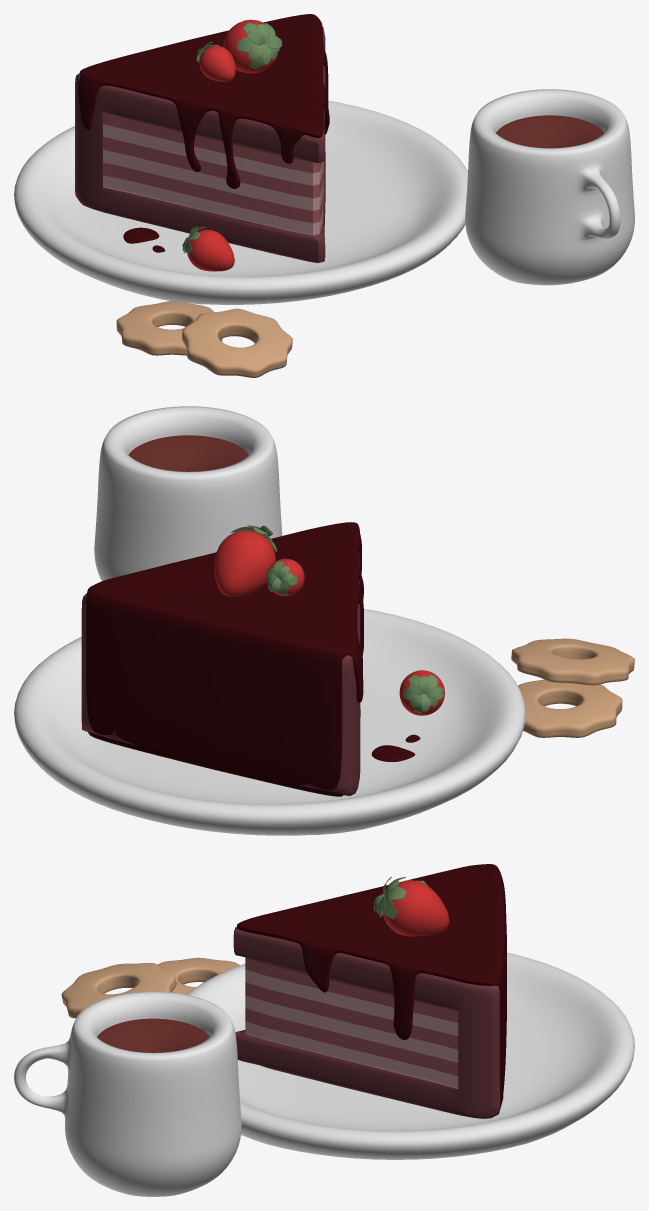
The model's file is berry-dream-kitchen_cake.glb.
3 renders of one model, top to bottom at view 1: azimuth 30°, elevation 25°; view 2: azimuth 150°, elevation 25°; view 3: azimuth 270°, elevation 25°, orthographic. The views are drawn at different scales.
Parts seen in each view (by area): view 1: MSH_Pastel_MTL_Plato_0, MSH_Pastel_MTL_ChocolateMelt_0, MSH_Pastel_MTL_PanBase_0, MSH_Pastel_MTL_Galleta_0, MSH_Pastel_MTL_Pastel_RellenoClaro_0, MSH_Pastel_MTL_Pastel_RellenoOscuro_0, MSH_Pastel_MTL_TazaChocolate_0, MSH_Pastel_MTL_HojasFresa_0, Fresa 3_MTL_Fresa_0, Fresa2_MTL_Fresa_0, Fresa1_MTL_Fresa_0; view 2: MSH_Pastel_MTL_Plato_0, MSH_Pastel_MTL_ChocolateMelt_0, MSH_Pastel_MTL_Galleta_0, MSH_Pastel_MTL_PanBase_0, MSH_Pastel_MTL_TazaChocolate_0, Fresa1_MTL_Fresa_0, MSH_Pastel_MTL_HojasFresa_0, Fresa 3_MTL_Fresa_0; view 3: MSH_Pastel_MTL_Plato_0, MSH_Pastel_MTL_ChocolateMelt_0, MSH_Pastel_MTL_PanBase_0, MSH_Pastel_MTL_Pastel_RellenoClaro_0, MSH_Pastel_MTL_Pastel_RellenoOscuro_0, MSH_Pastel_MTL_Galleta_0, MSH_Pastel_MTL_TazaChocolate_0, Fresa1_MTL_Fresa_0, MSH_Pastel_MTL_HojasFresa_0.
Boxes of the visible parts, <box> form: MSH_Pastel_MTL_Plato_0: <box>14,89,634,304</box>; MSH_Pastel_MTL_ChocolateMelt_0: <box>78,14,329,252</box>; MSH_Pastel_MTL_PanBase_0: <box>75,27,325,262</box>; MSH_Pastel_MTL_Galleta_0: <box>116,301,292,377</box>; MSH_Pastel_MTL_Pastel_RellenoClaro_0: <box>103,124,323,235</box>; MSH_Pastel_MTL_Pastel_RellenoOscuro_0: <box>103,111,323,223</box>; MSH_Pastel_MTL_TazaChocolate_0: <box>496,115,603,148</box>; MSH_Pastel_MTL_HojasFresa_0: <box>182,23,282,253</box>; Fresa 3_MTL_Fresa_0: <box>187,229,234,271</box>; Fresa2_MTL_Fresa_0: <box>199,46,235,81</box>; Fresa1_MTL_Fresa_0: <box>223,19,277,73</box>; MSH_Pastel_MTL_Plato_0: <box>14,406,525,835</box>; MSH_Pastel_MTL_ChocolateMelt_0: <box>86,522,420,796</box>; MSH_Pastel_MTL_Galleta_0: <box>511,638,634,737</box>; MSH_Pastel_MTL_PanBase_0: <box>81,527,360,795</box>; MSH_Pastel_MTL_TazaChocolate_0: <box>128,435,248,471</box>; Fresa1_MTL_Fresa_0: <box>214,530,275,596</box>; MSH_Pastel_MTL_HojasFresa_0: <box>230,525,443,713</box>; Fresa 3_MTL_Fresa_0: <box>399,670,444,715</box>; MSH_Pastel_MTL_Plato_0: <box>14,952,634,1196</box>; MSH_Pastel_MTL_ChocolateMelt_0: <box>236,864,506,1105</box>; MSH_Pastel_MTL_PanBase_0: <box>233,927,503,1118</box>; MSH_Pastel_MTL_Pastel_RellenoClaro_0: <box>245,969,458,1088</box>; MSH_Pastel_MTL_Pastel_RellenoOscuro_0: <box>245,957,458,1075</box>; MSH_Pastel_MTL_Galleta_0: <box>61,957,239,1018</box>; MSH_Pastel_MTL_TazaChocolate_0: <box>97,1018,209,1052</box>; Fresa1_MTL_Fresa_0: <box>382,880,449,936</box>; MSH_Pastel_MTL_HojasFresa_0: <box>373,876,427,919</box>.
Bounding box in the file's own units: 111 × 43.71 × 120.
Materials: 9 (6 with a texture image).
